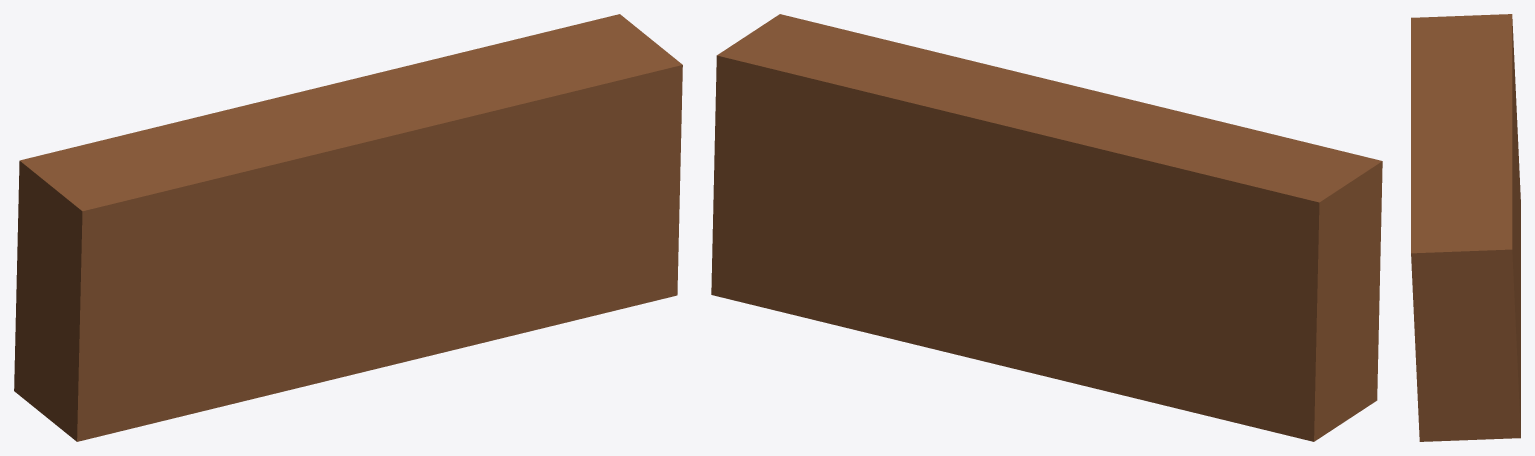
File: brick.fbx
3 renders of one model, left to right at view 1: azimuth 30°, elevation 25°; view 2: azimuth 150°, elevation 25°; view 3: azimuth 270°, elevation 25°, orthographic. The views are drawn at different scales.
Parts seen in each view (by area): view 1: brick; view 2: brick; view 3: brick.
Part boxes in pixels (bbox=[...]): brick: bbox=[14, 14, 682, 441]; brick: bbox=[711, 14, 1382, 441]; brick: bbox=[1411, 14, 1520, 441].
Size of the model in its own units: 29.44 by 11.21 by 5.81.
Materials: 1 (1 with a texture image).
